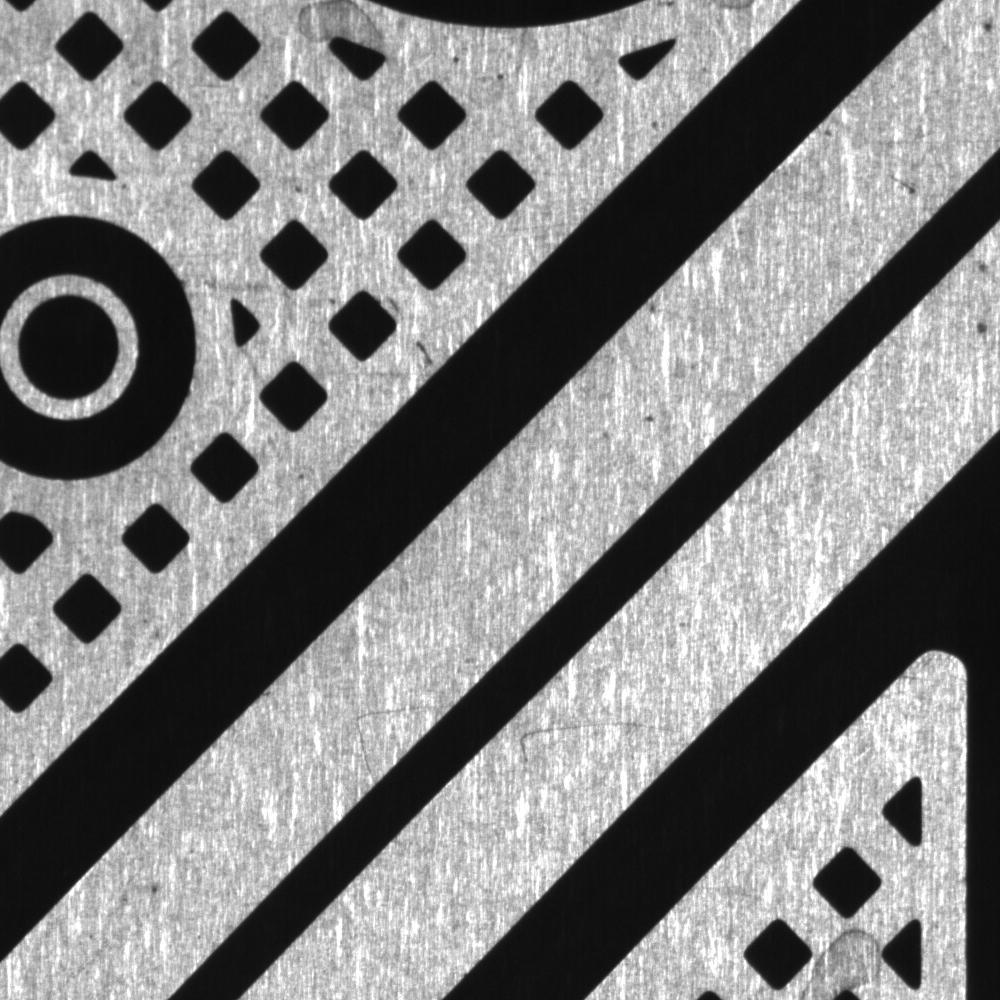Discolor: (288, 1, 395, 75), (805, 924, 900, 1000)
Etching: (861, 147, 952, 212)
Pinhole: (971, 239, 1000, 360), (118, 863, 184, 910), (622, 392, 675, 444), (964, 1, 1000, 50), (644, 289, 670, 325)
Scar: (511, 706, 700, 781), (327, 692, 449, 777)
